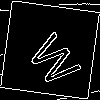W: (25, 25, 90, 91)
